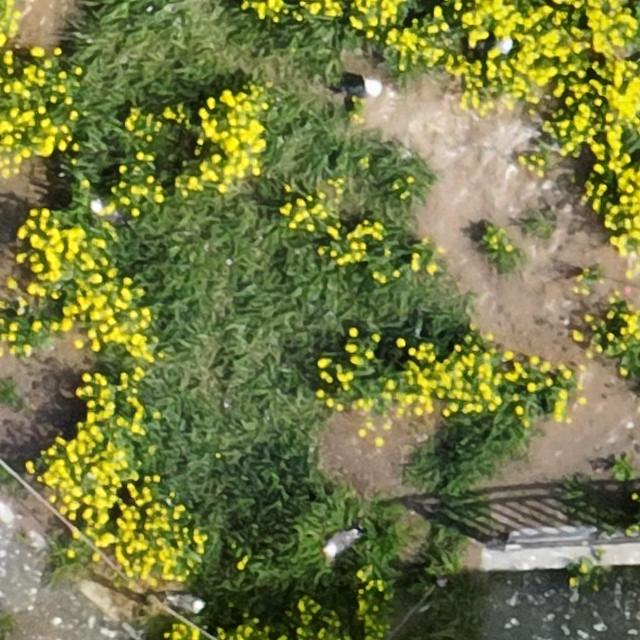umineko: (325, 530, 354, 556), (167, 592, 206, 611), (92, 200, 122, 220), (347, 79, 381, 96)
